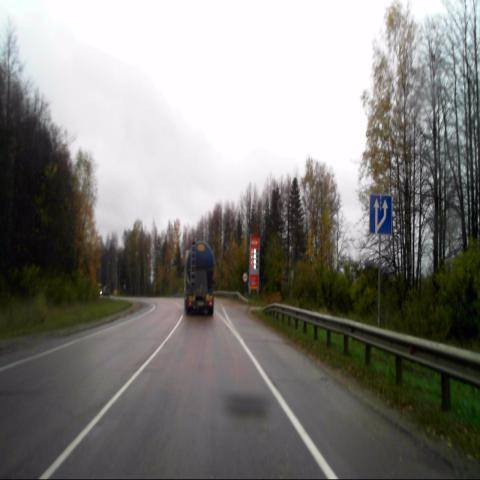5_15_3: (369, 192, 393, 238)
